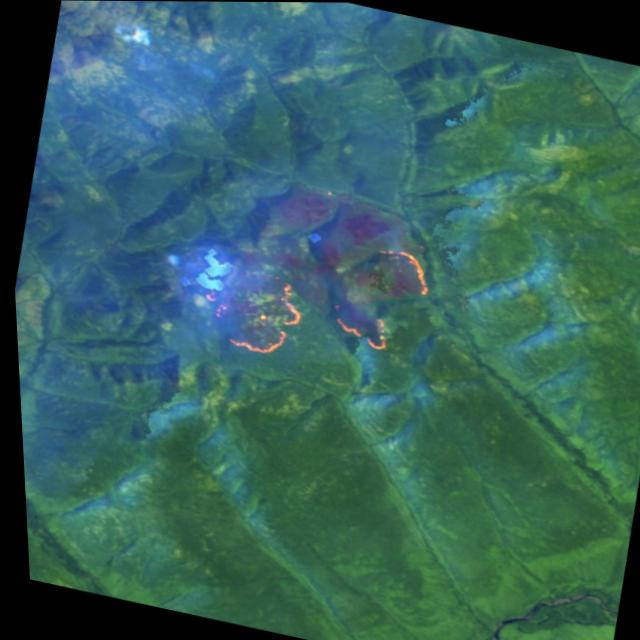fire: (209, 212, 445, 392)
